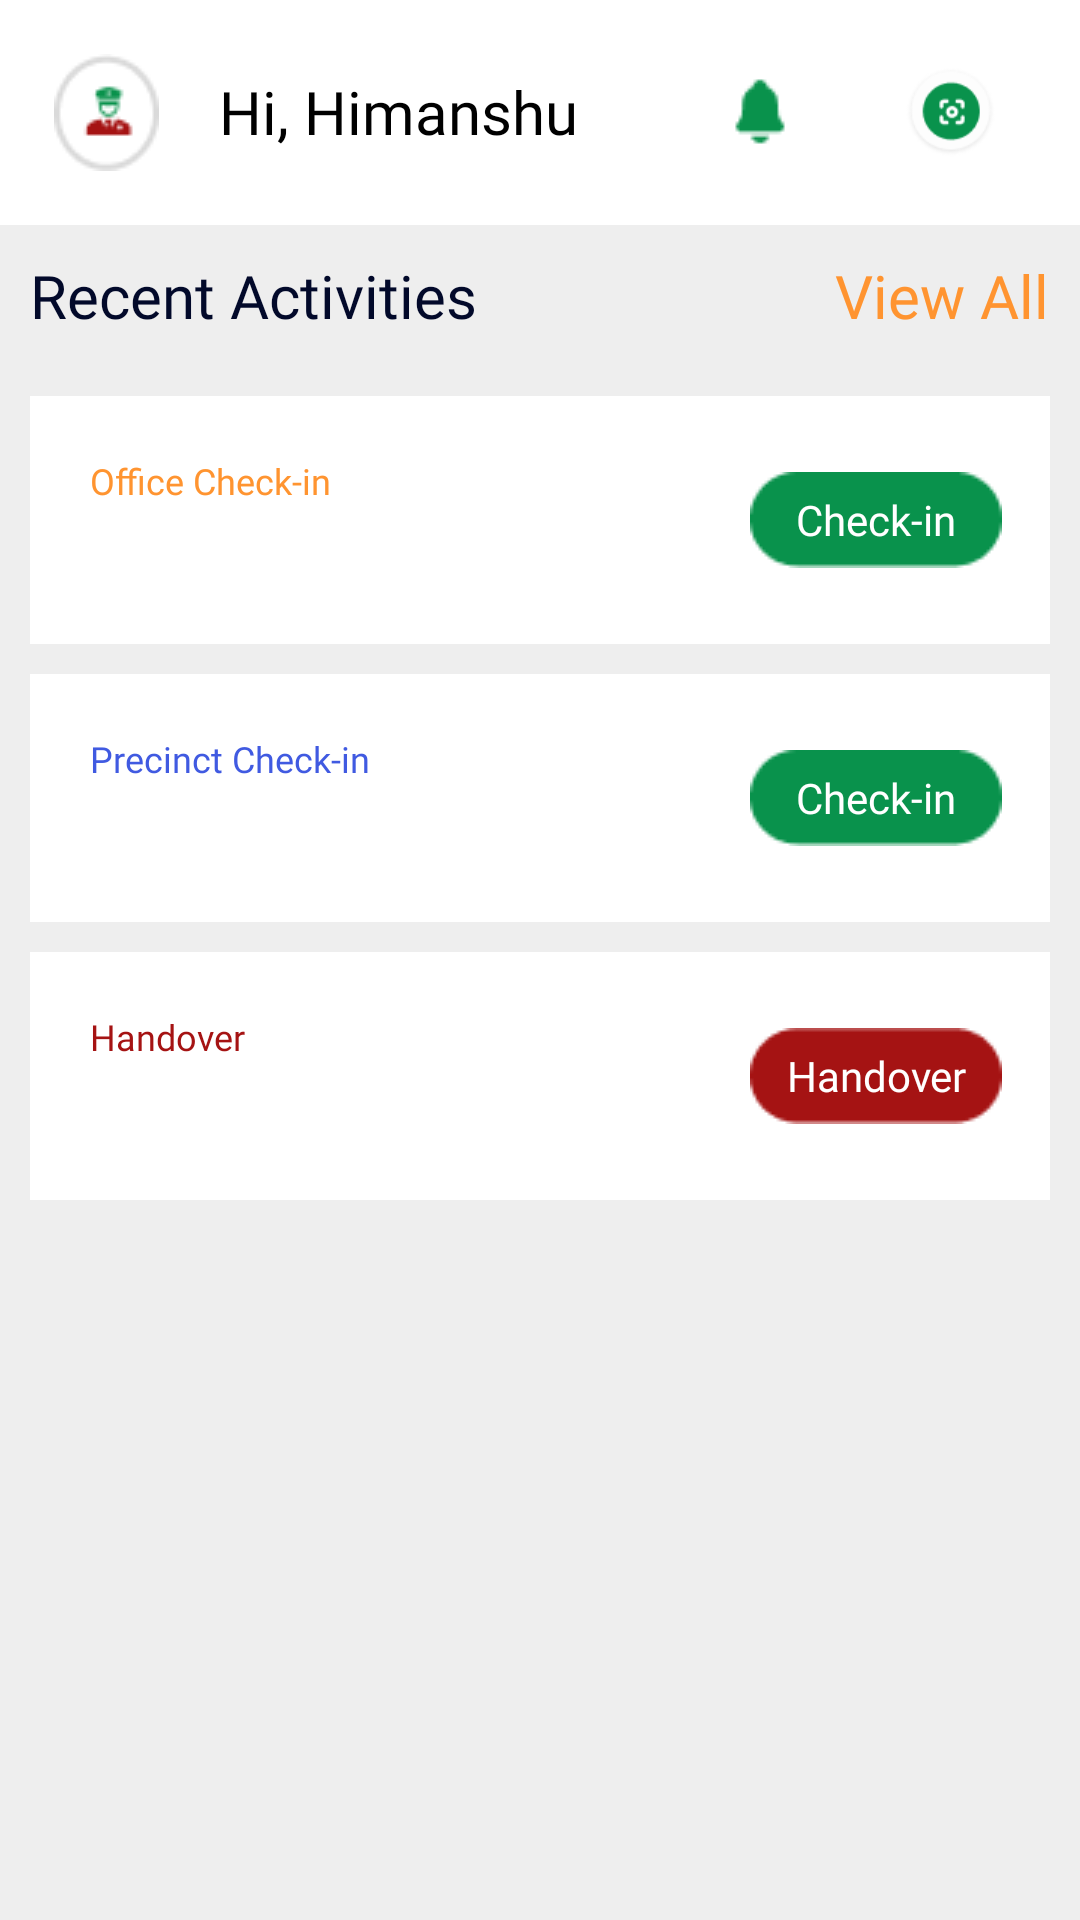

Icons on this 1080x1920 Android screen, each with its box as box=[x1, y1, x2, y2]:
notification: box=[735, 79, 785, 144]
parking marshal user: box=[54, 57, 159, 171]
scan: box=[922, 82, 980, 141]
